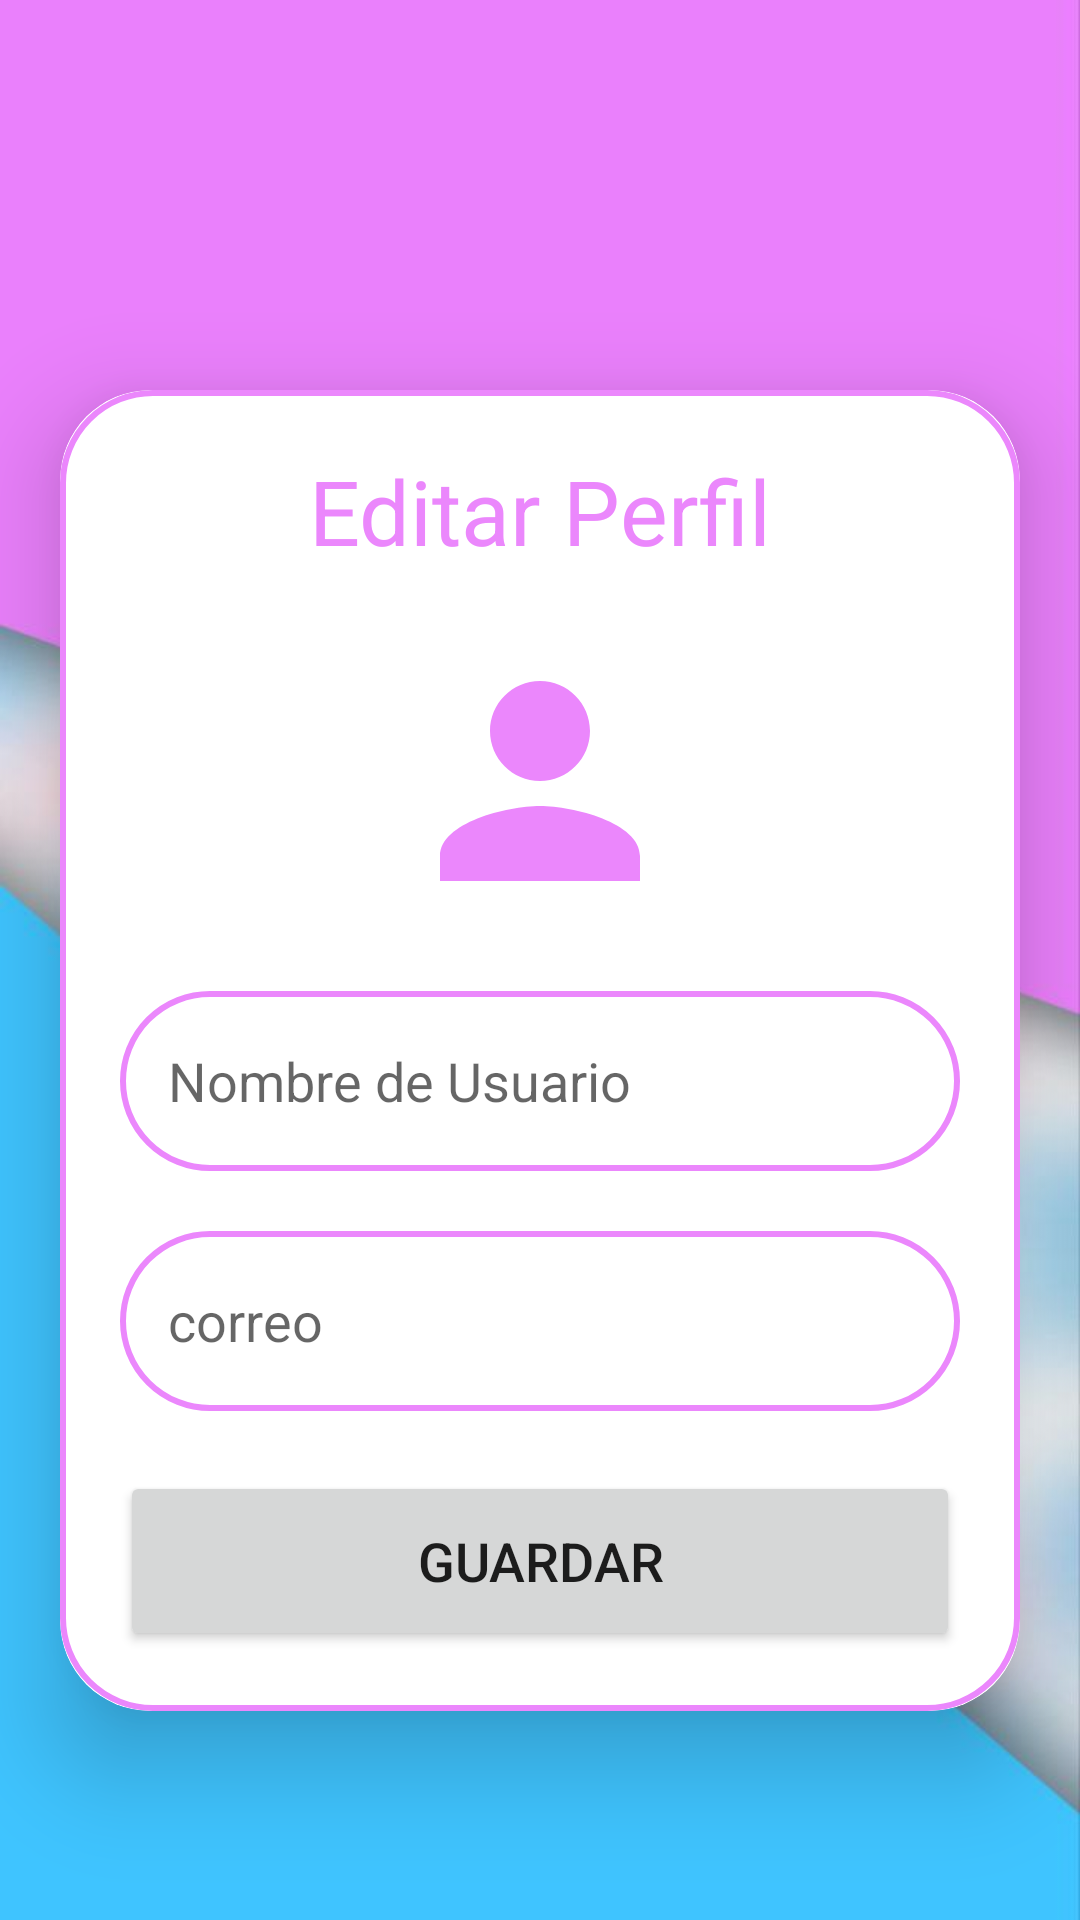

Locate icon controls on the screen. Image size 1080px×1920px, boxes as (x1, y1, x2, y2).
person: (440, 681, 640, 881)
